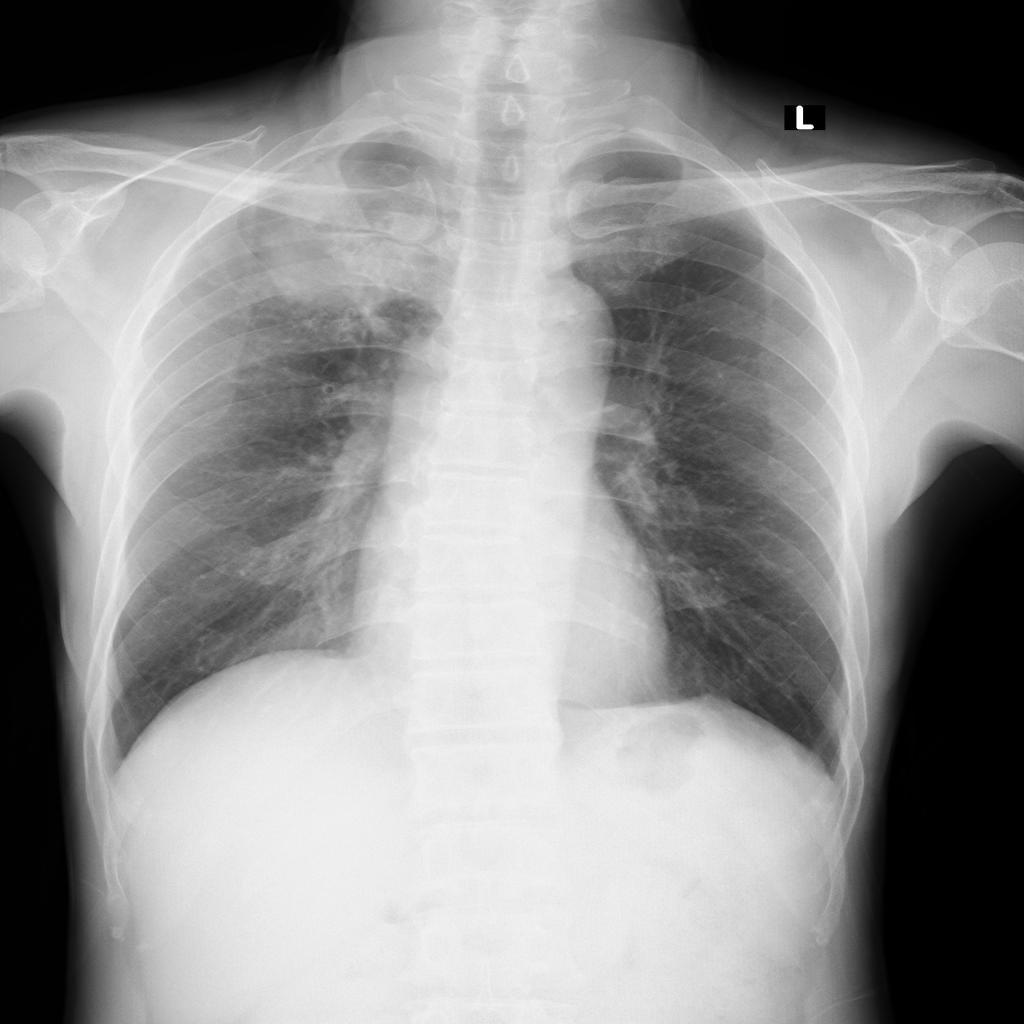Nodule: (255, 164, 450, 311)
